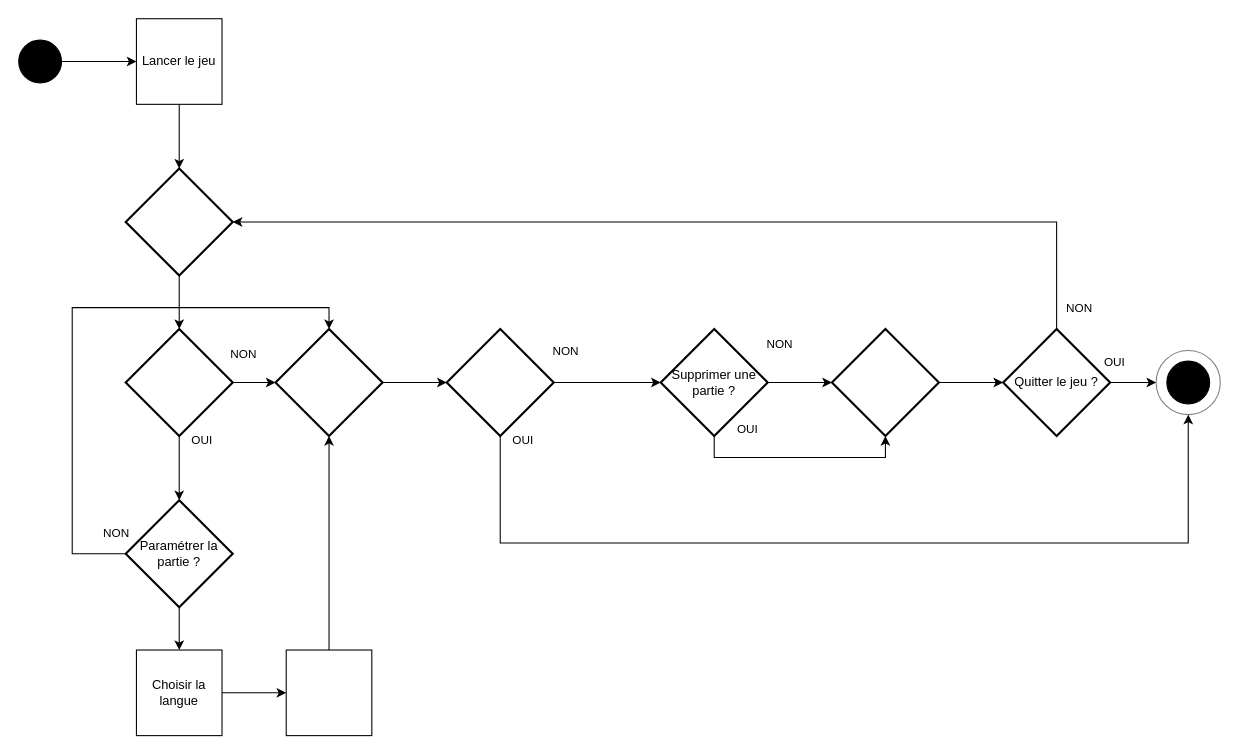
This 1239x754 diagram has some shape labels left out. Each missing label, with the box of its shape:
Charger une partie ?: (445, 327, 554, 437)
Créer une partie ?: (124, 327, 233, 437)
Régler le son: (285, 649, 372, 736)
